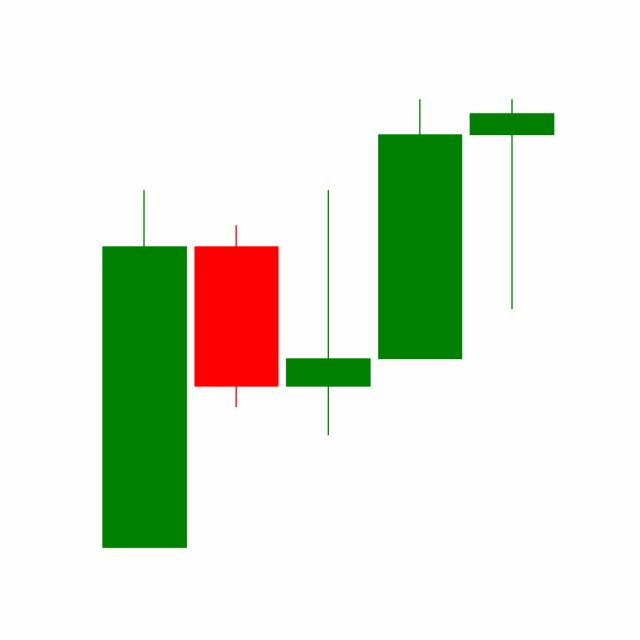Hanging Man: (464, 96, 558, 312)
